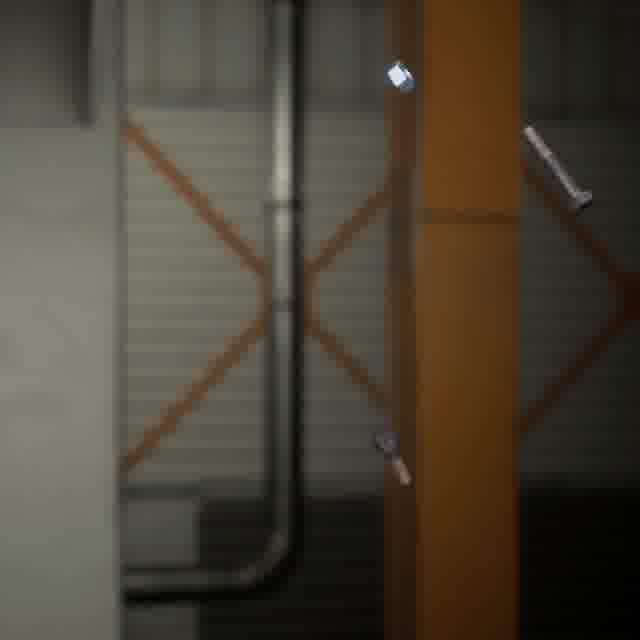bolt: (517, 121, 599, 218), (367, 423, 415, 489)
nut: (382, 56, 420, 98)
